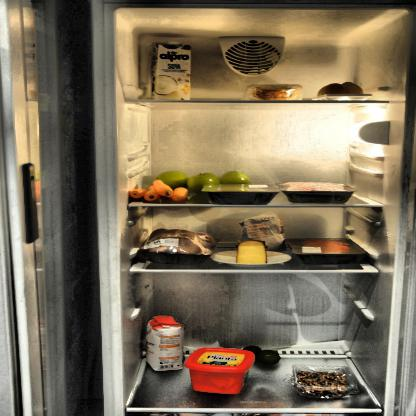apple: (152, 172, 252, 192)
beef: (294, 238, 353, 264)
butter: (180, 348, 249, 394)
carrot: (130, 178, 190, 202)
cheese: (233, 240, 263, 266)
chicken: (135, 228, 214, 266)
eggs: (316, 81, 366, 100)
ground_beef: (281, 182, 352, 202)
lime: (238, 346, 278, 364)
milk: (151, 40, 190, 104)
shrimp: (296, 367, 350, 397)
